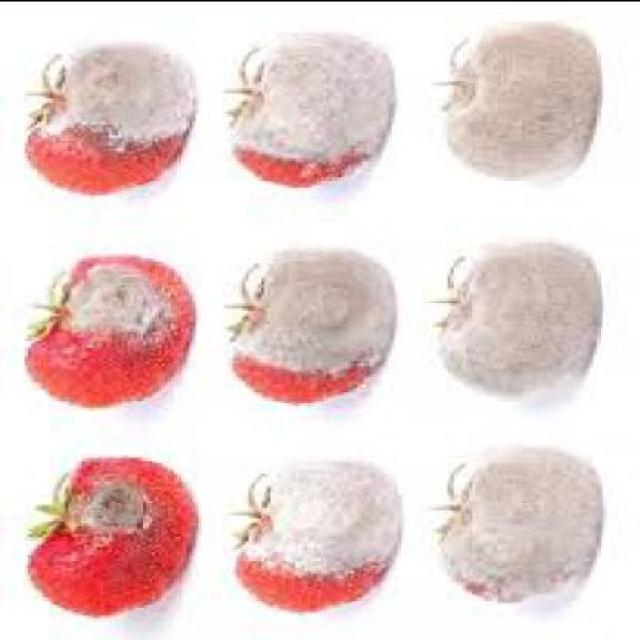BIODEGRADABLE: (24, 456, 196, 619), (18, 44, 195, 194), (220, 251, 392, 404), (429, 26, 596, 183), (221, 37, 388, 189), (22, 257, 189, 409), (435, 244, 599, 396), (435, 451, 599, 603), (230, 462, 398, 610)
